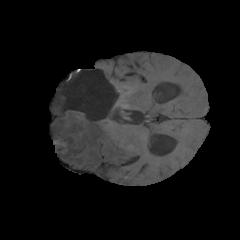glioma: (52, 85, 135, 166)
